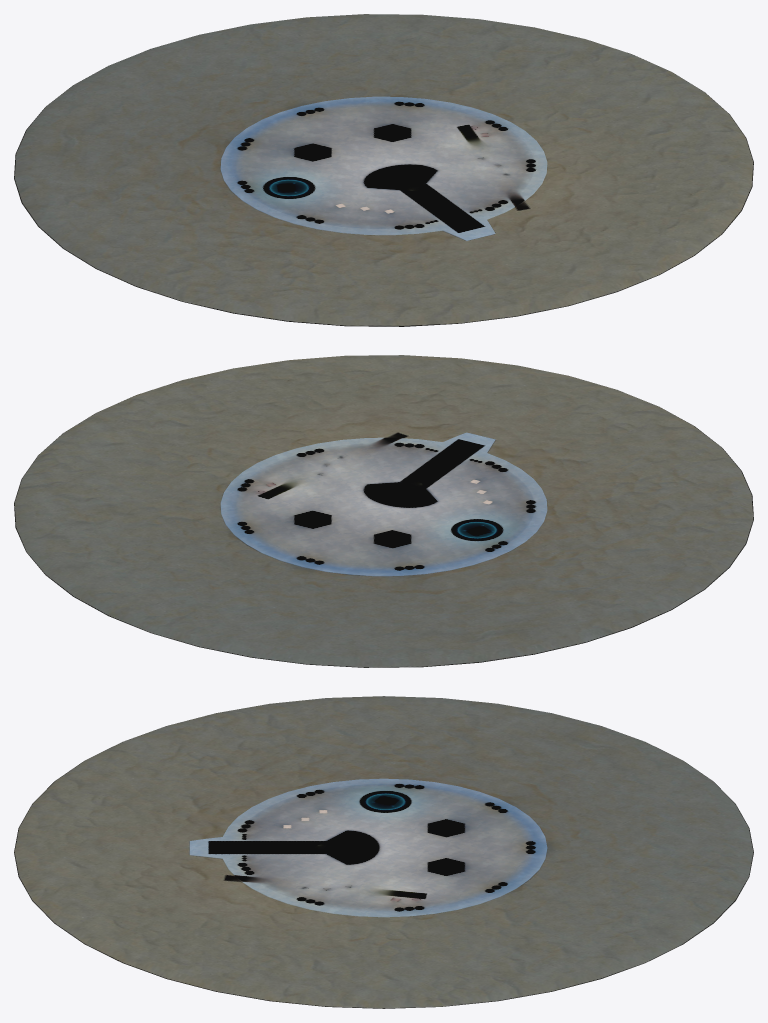
File: Ground.glb
The picture shows the model from 3 angles, top to bottom: view 1: azimuth 30°, elevation 25°; view 2: azimuth 150°, elevation 25°; view 3: azimuth 270°, elevation 25°; orthographic projection.
Visible parts, largest first — view 1: Ground_Export; view 2: Ground_Export; view 3: Ground_Export.
Part boxes in pixels (bbox=[...]): Ground_Export: bbox=[14, 14, 753, 326]; Ground_Export: bbox=[14, 355, 753, 667]; Ground_Export: bbox=[14, 696, 753, 1008].
Bounding box in the file's own units: 57.96 × 0.42 × 57.96.
1 material, 1 textured.
